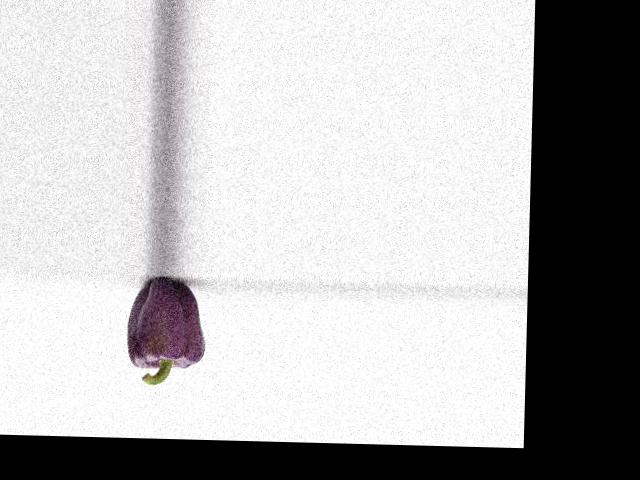bell_pepper: (117, 278, 212, 384)
